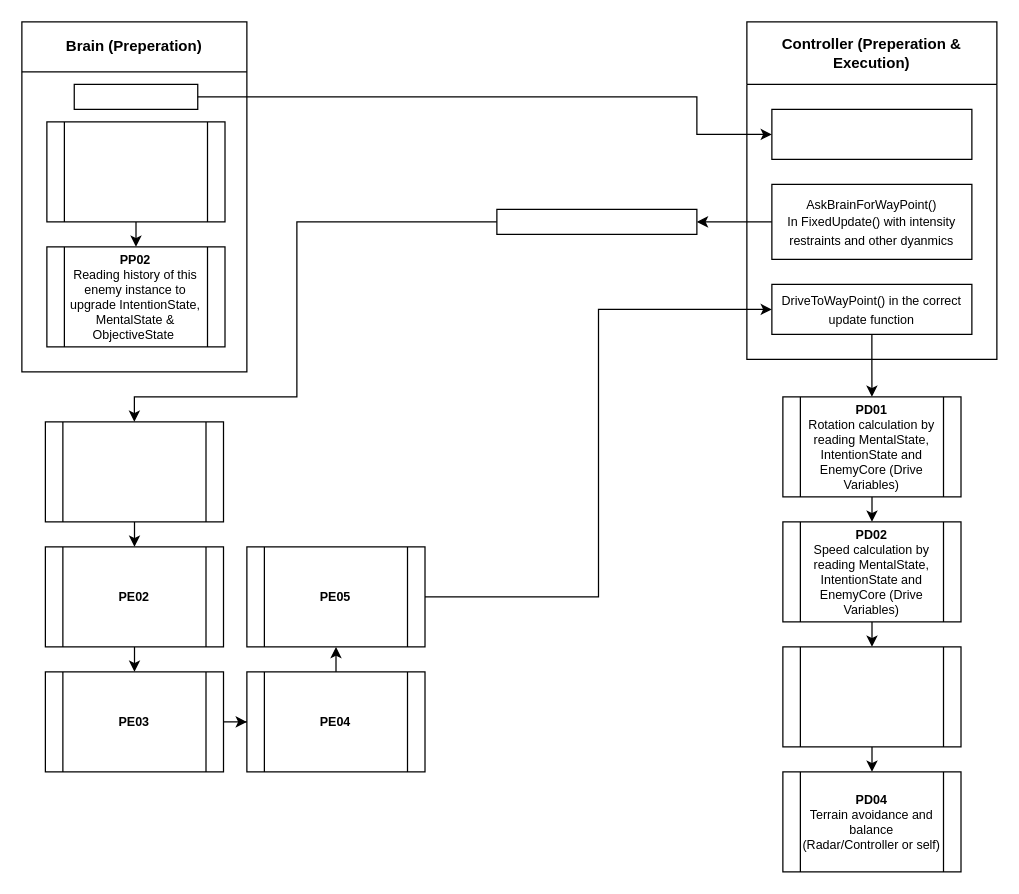
Some shapes in this 1019 by 894 pixel diagram are drawn without their labels. Each missing label, with the centre of its shape:
"Get the three cores" goes at (135,96).
"GetNewWayPoint()" goes at (596,221).
"PD03 Cohesive, pathfinding and continuity (Radar or self)" goes at (871,696).
"PE01 Radar" goes at (134,471).
"PP01 Filling MentalState & ObjectiveState by reading the cores" goes at (135,171).
"Pre-calculation of drive variable ranges" goes at (871,133).
